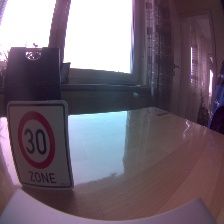dreisiger_zone: (6, 100, 75, 192)
